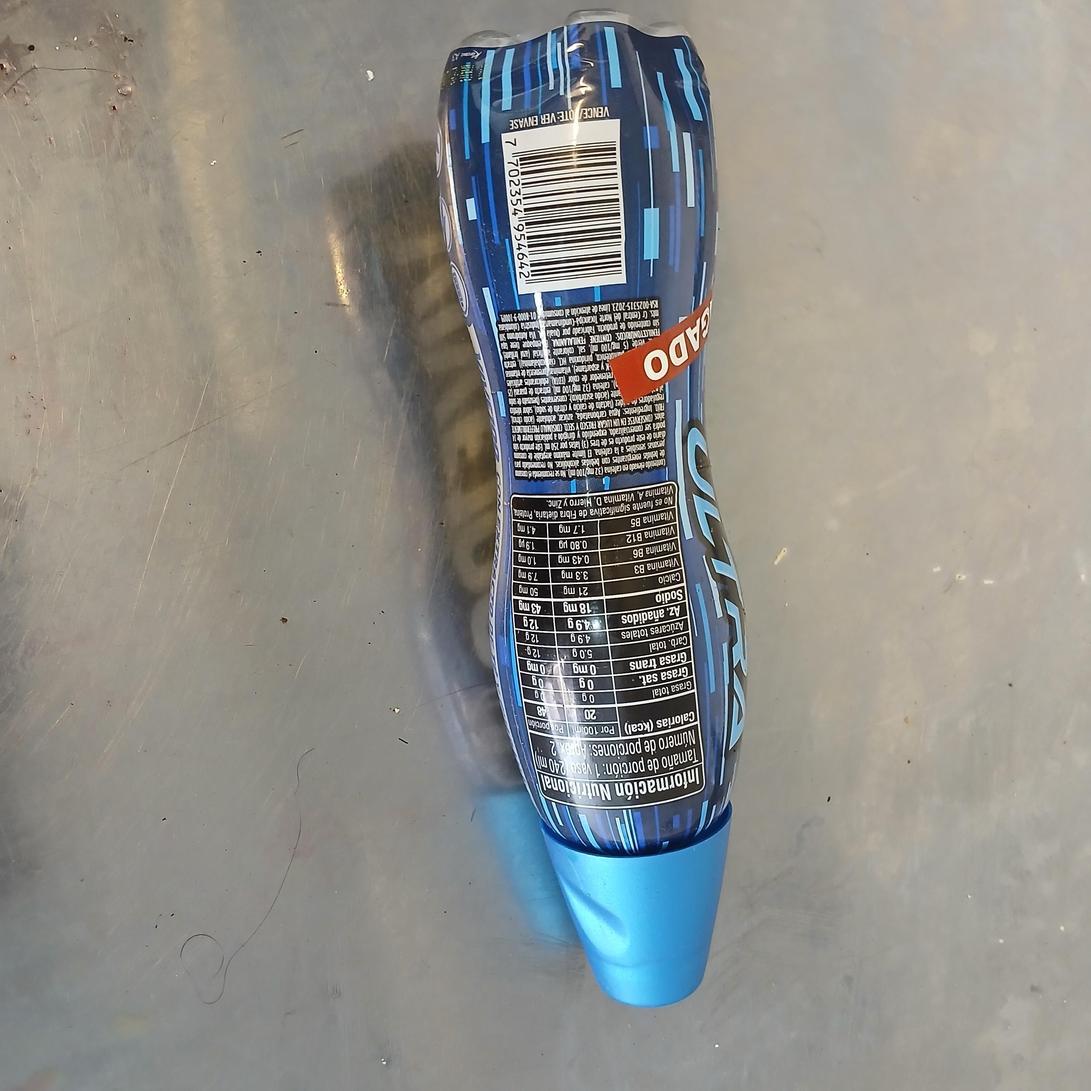Plastico: (434, 12, 750, 1009)
